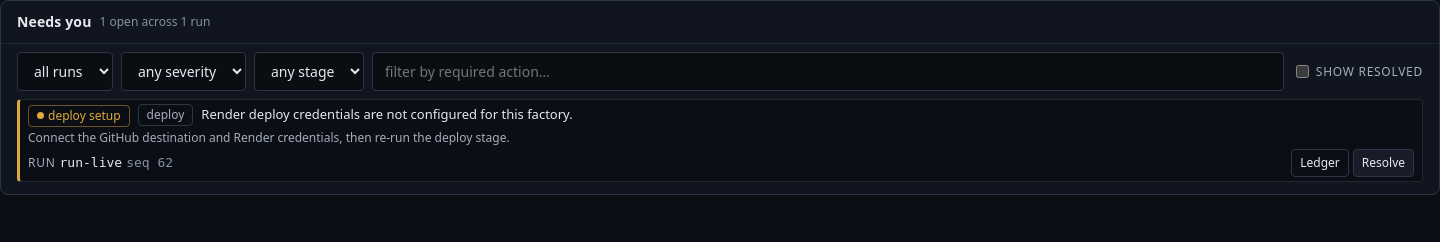
InterventionQueue (U9/X4) › flips a resolved item within one round trip — never waiting a full poll interval
The width and height of the screenshot is (1440, 242).
Click the button with aria-label "resolve intervention" at [1383, 162], box 1353,148 -> 1414,176
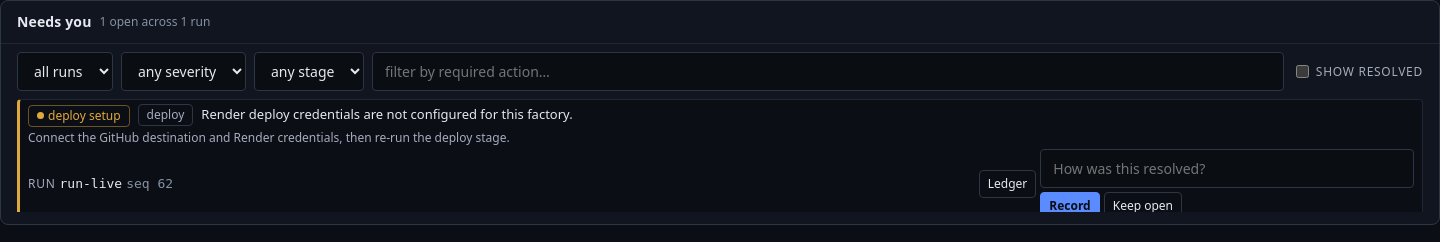
Type "added the render credentials" into the field named "Resolution for " at [1227, 168], box 1040,148 -> 1414,188
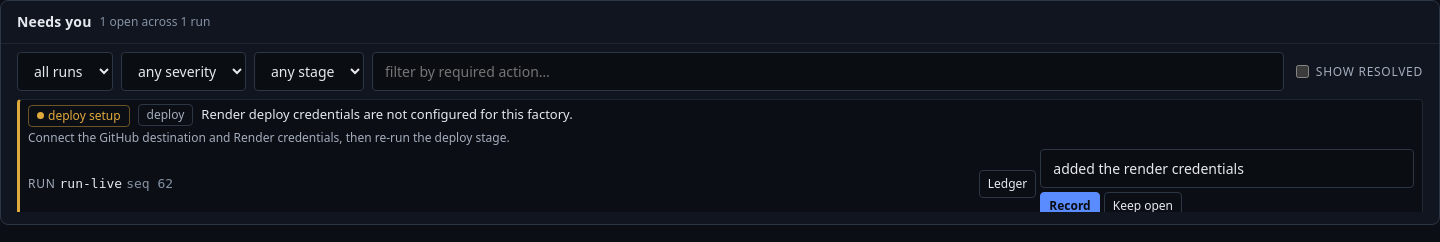
Click the button "Record" at [1070, 206], box 1040,192 -> 1100,220
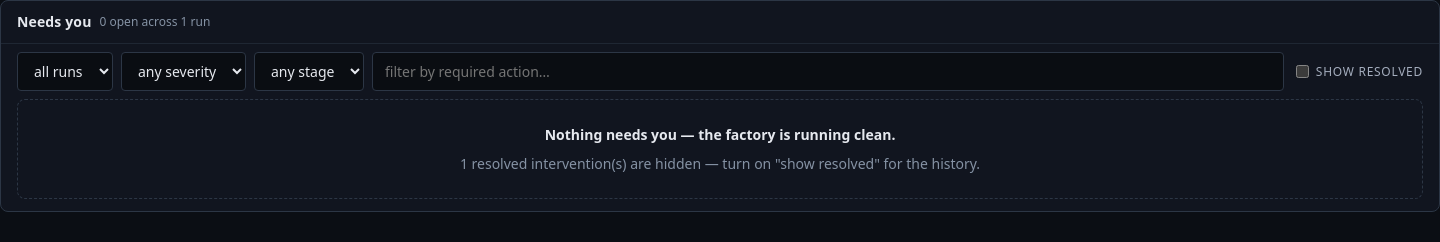
Now the element with test id "interventions-empty" shows "Nothing needs you", box 545,125 -> 895,144
Now the element with test id "interventions-empty" shows "1 resolved", box 460,154 -> 980,173
